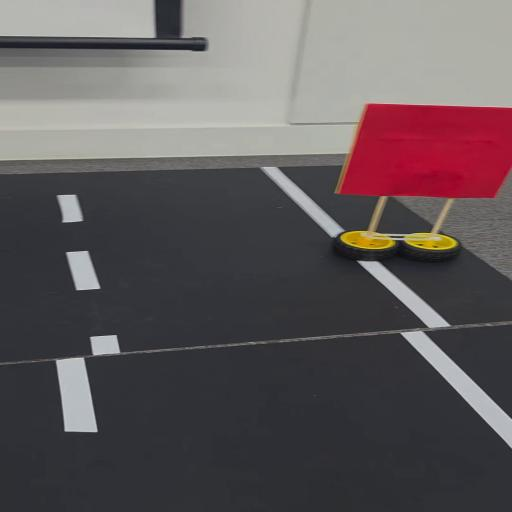Sign_A: (324, 96, 512, 263)
